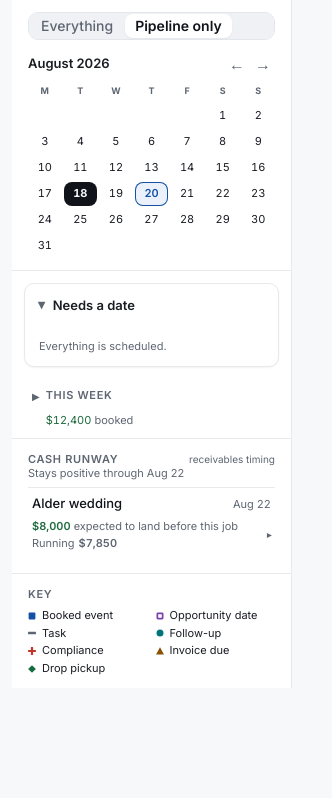
it: CalendarLeftRail › surfaces the Booked-$ KPI from rollup.bookedValue
Check: the text "$12,400" is shown, box [46, 412, 91, 426]
Click the button "▶ This week $12,400 booked" at (79, 395), box [12, 379, 291, 438]
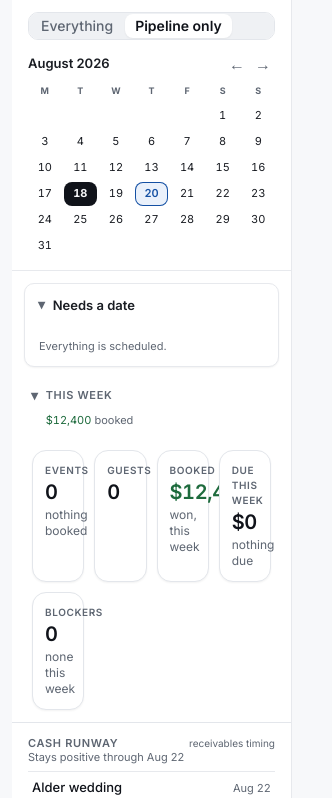
Check: the 1st text "$12,400" is shown, box [46, 412, 91, 426]
Check: the text "Booked" is shown, box [170, 462, 196, 478]
